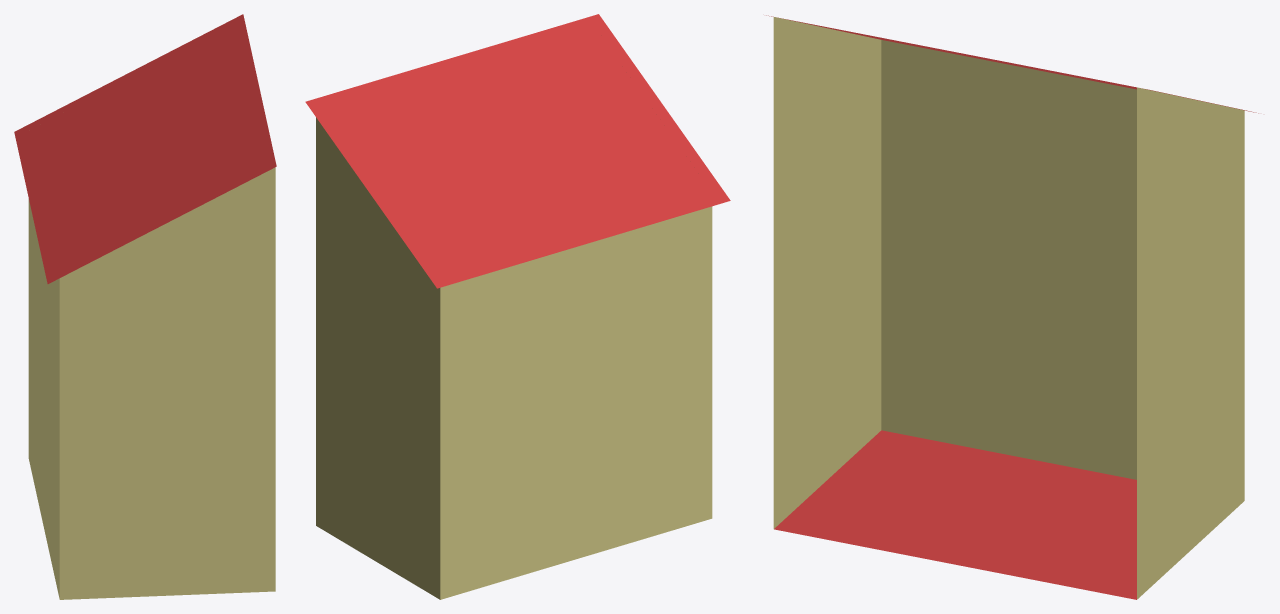
The picture shows the model from 3 angles, left to right: view 1: azimuth 30°, elevation 25°; view 2: azimuth 150°, elevation 25°; view 3: azimuth 270°, elevation 25°; orthographic projection. The views are drawn at different scales.
Bounding box in the file's own units: 6.75 × 7.97 × 8.9.
